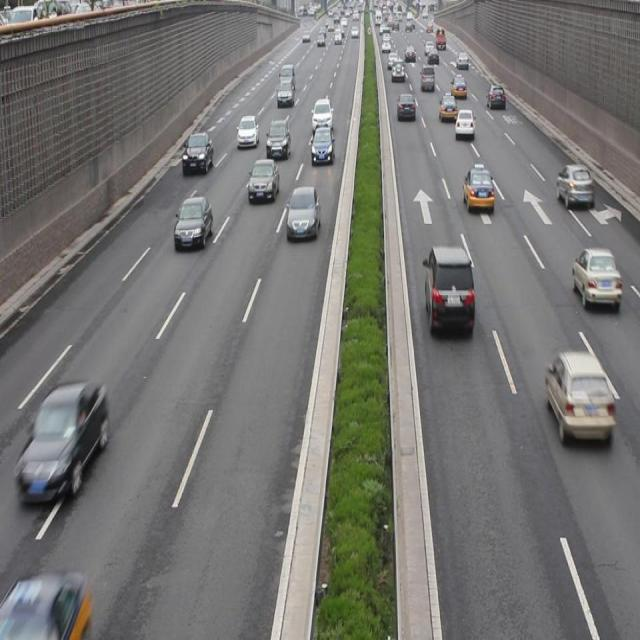car: (18, 386, 107, 503), (1, 569, 94, 640), (544, 353, 611, 451), (422, 245, 475, 340), (568, 245, 618, 312), (284, 187, 320, 240), (555, 157, 593, 206), (174, 198, 209, 244), (248, 160, 279, 203), (464, 168, 493, 210), (184, 130, 212, 173), (266, 120, 290, 161), (310, 126, 334, 166), (311, 96, 333, 137), (236, 115, 259, 148), (454, 110, 474, 138)
